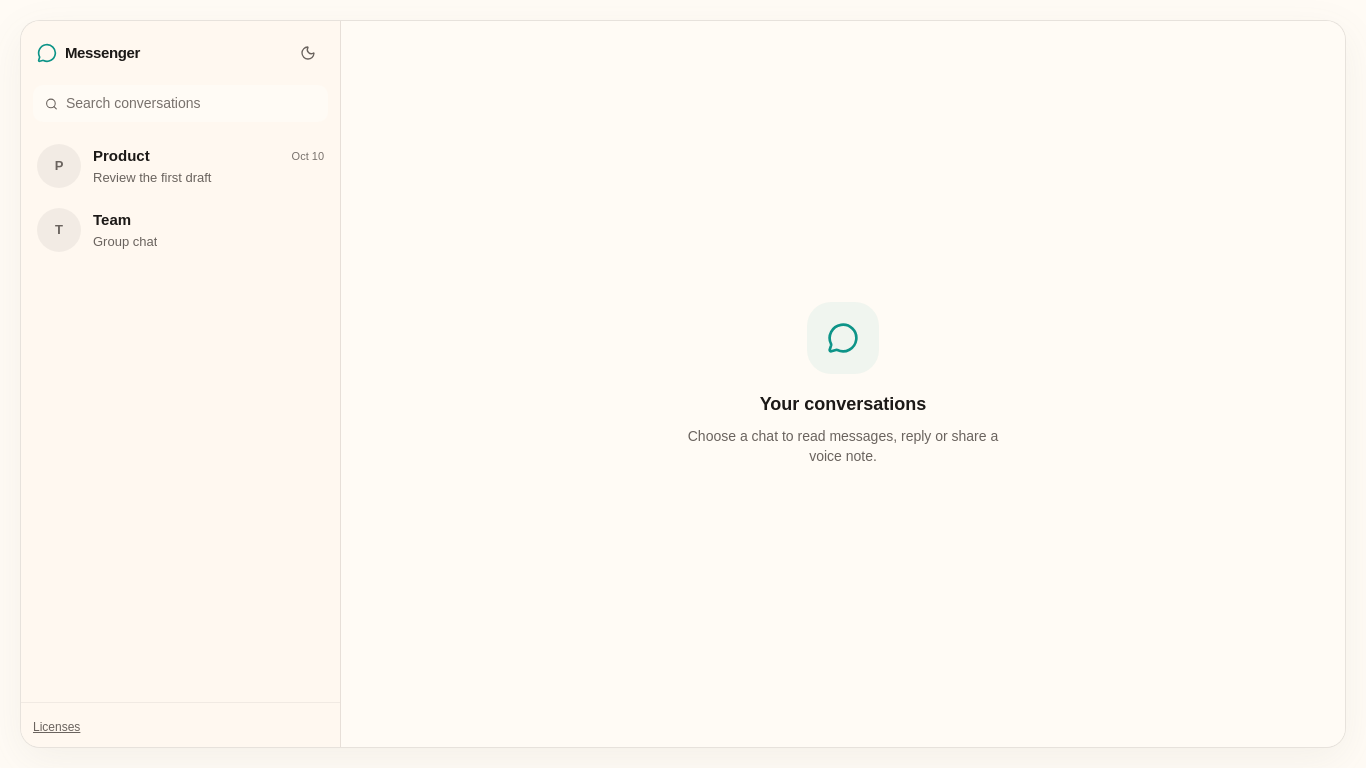
Test: retained donor chat UI and House composition › filters messages without generating fake empty-state messages
Click the button with aria-label "Open Product chat": (59,166) [25, 134, 336, 198]
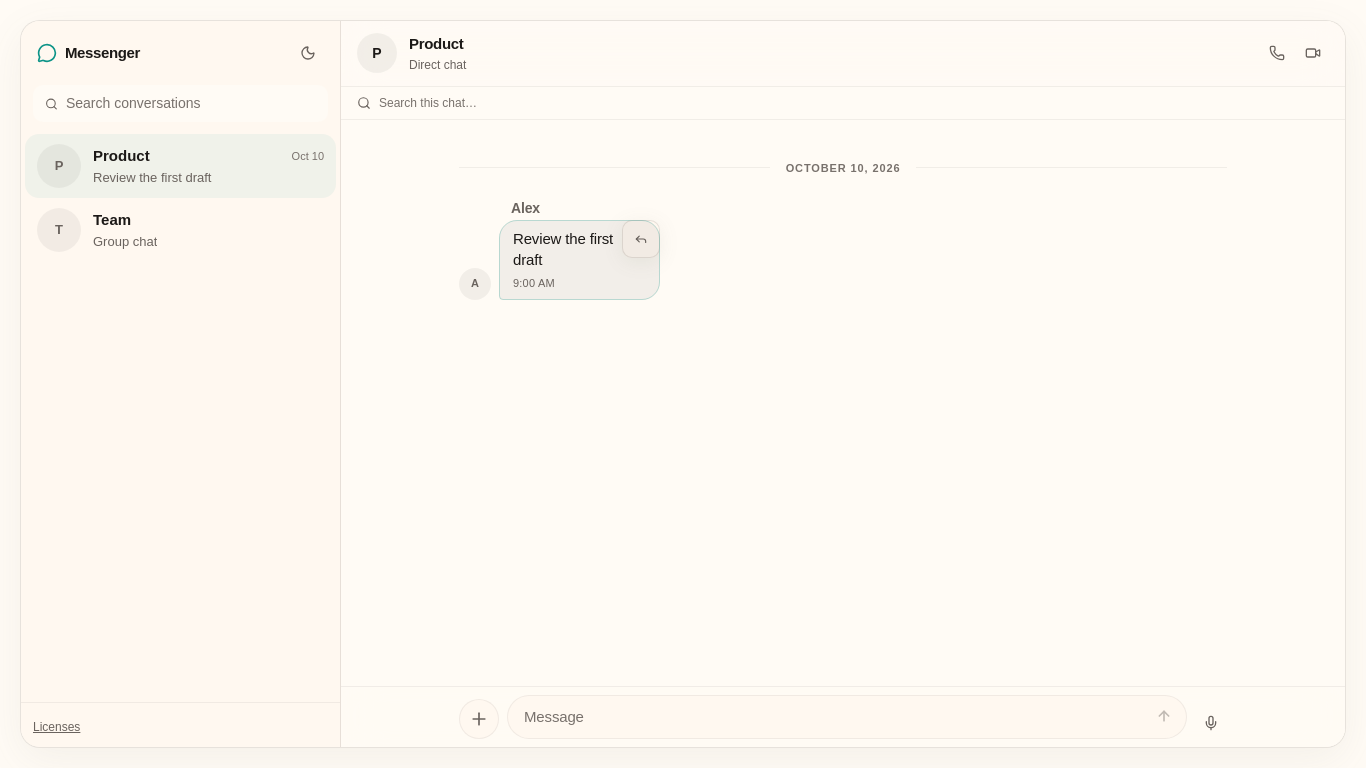
In the field named "Search messages": (854,102) [379, 94, 1329, 110], type "no match"
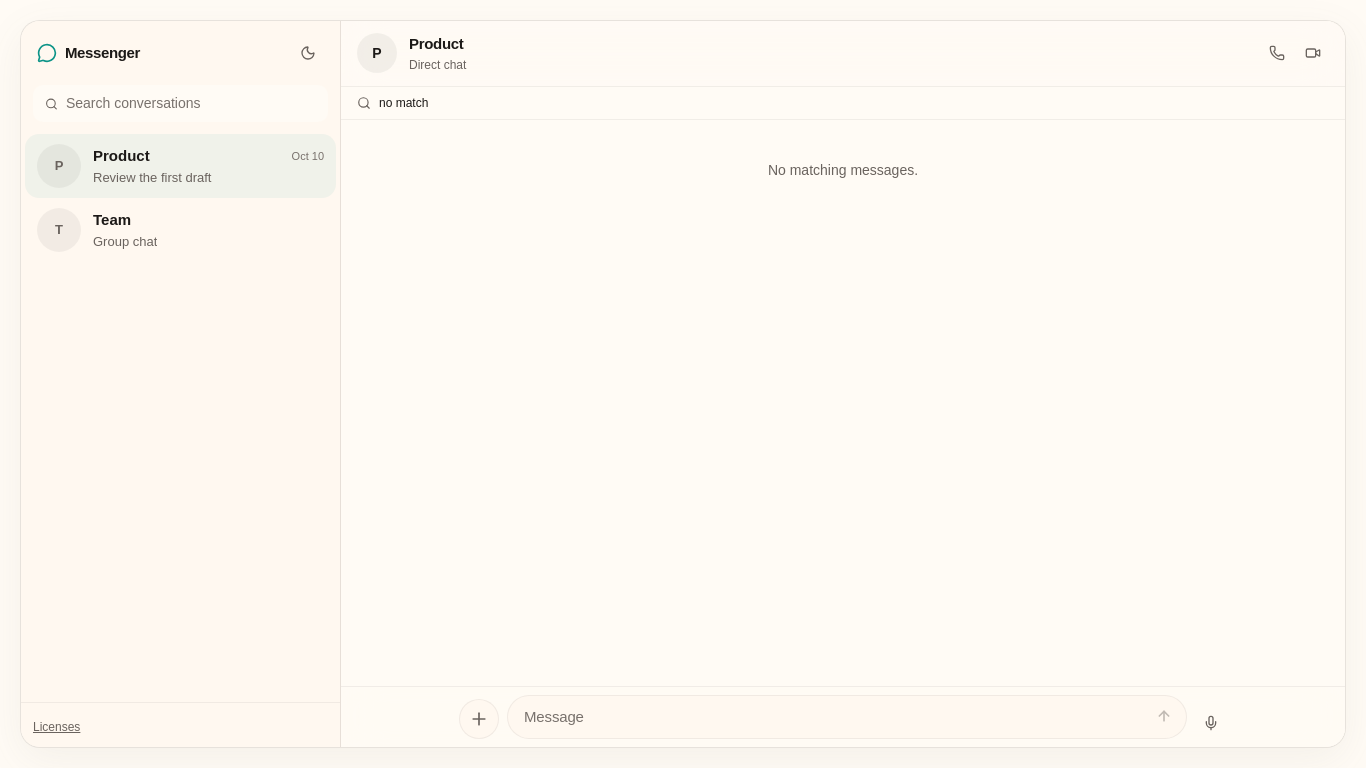
Expected: the text "No matching messages." is shown, [768, 162, 918, 178]
